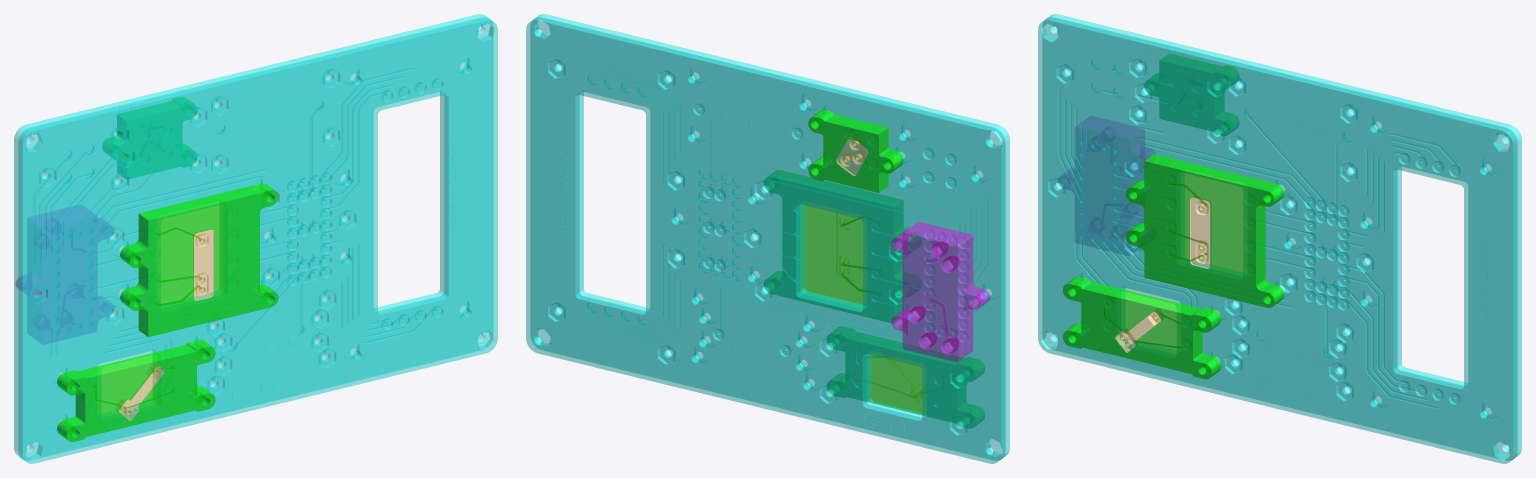
The picture shows the model from 3 angles, left to right: view 1: azimuth 30°, elevation 25°; view 2: azimuth 150°, elevation 25°; view 3: azimuth 330°, elevation 25°; orthographic projection.
Parts seen in each view (by area): view 1: 42013381 - FCB layout-1, 20251209 DropletGen adaptor FCB 2 pezzi-2, 20260119 - Shorter mixer adaptor 2 parts NEW-1, 20251209 Decorator adaptor FCB 2 pezzi 3 screws-2, 42013583 - Routing Block V3.2 - decoration working 2 parts-1; view 2: 42013381 - FCB layout-1, 20251209 DropletGen adaptor FCB 2 pezzi-2, 42013583 - Routing Block V3.2 - decoration working 2 parts-1, 20260119 - Shorter mixer adaptor 2 parts NEW-1, 20251209 Decorator adaptor FCB 2 pezzi 3 screws-2; view 3: 42013381 - FCB layout-1, 20251209 DropletGen adaptor FCB 2 pezzi-2, 20260119 - Shorter mixer adaptor 2 parts NEW-1, 20251209 Decorator adaptor FCB 2 pezzi 3 screws-2, 42013583 - Routing Block V3.2 - decoration working 2 parts-1.
Part boxes in pixels (left/top/right/bottom): 42013381 - FCB layout-1: left=14, top=14, right=497, bottom=463; 20251209 DropletGen adaptor FCB 2 pezzi-2: left=120, top=183, right=278, bottom=337; 20260119 - Shorter mixer adaptor 2 parts NEW-1: left=57, top=339, right=215, bottom=442; 20251209 Decorator adaptor FCB 2 pezzi 3 screws-2: left=103, top=97, right=196, bottom=178; 42013583 - Routing Block V3.2 - decoration working 2 parts-1: left=16, top=217, right=113, bottom=330; 42013381 - FCB layout-1: left=526, top=14, right=1009, bottom=463; 20251209 DropletGen adaptor FCB 2 pezzi-2: left=764, top=170, right=915, bottom=322; 42013583 - Routing Block V3.2 - decoration working 2 parts-1: left=891, top=222, right=989, bottom=362; 20260119 - Shorter mixer adaptor 2 parts NEW-1: left=827, top=327, right=984, bottom=428; 20251209 Decorator adaptor FCB 2 pezzi 3 screws-2: left=808, top=110, right=903, bottom=192; 42013381 - FCB layout-1: left=1038, top=14, right=1521, bottom=463; 20251209 DropletGen adaptor FCB 2 pezzi-2: left=1126, top=154, right=1284, bottom=307; 20260119 - Shorter mixer adaptor 2 parts NEW-1: left=1062, top=277, right=1221, bottom=379; 20251209 Decorator adaptor FCB 2 pezzi 3 screws-2: left=1145, top=54, right=1238, bottom=135; 42013583 - Routing Block V3.2 - decoration working 2 parts-1: left=1059, top=126, right=1146, bottom=239.
Size of the model in its own units: 0.1278 by 0.0855 by 0.0155.
